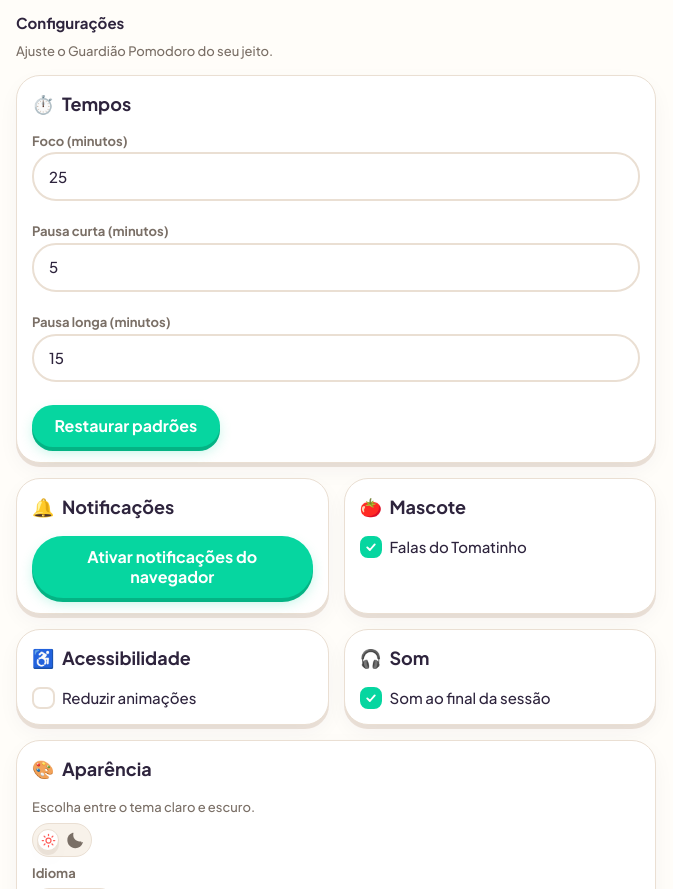
Test: ConfiguracoesPage › mode: account › clicar em ativar notificações pede permissão e, se concedida, mostra o toggle
What coordinates should you click on to do the following:
click the button "Ativar notificações do navegador"
I would click on:
 (172, 567)
Its box is [32,536,312,598].
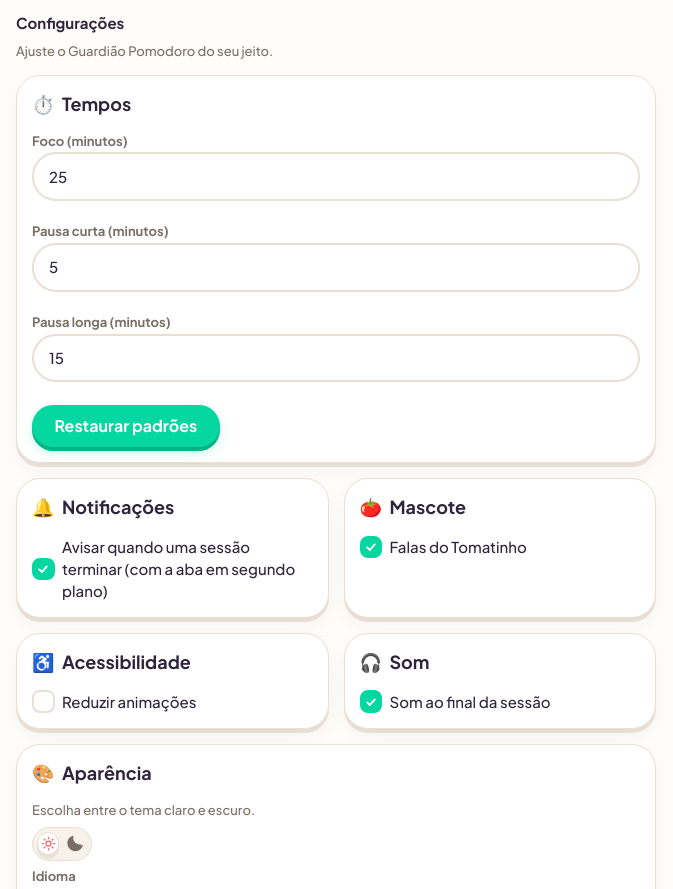
Expected: the checkbox labelled "Avisar quando uma sessão terminar" is shown, [32,536,312,602]
